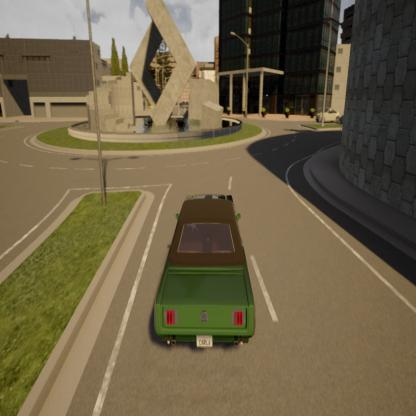Cars: (146, 185, 261, 355), (314, 104, 344, 125)
